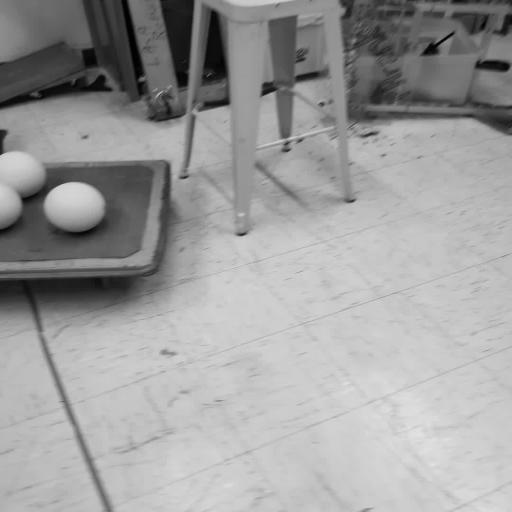fuel: (0, 151, 46, 230), (44, 182, 106, 232)
